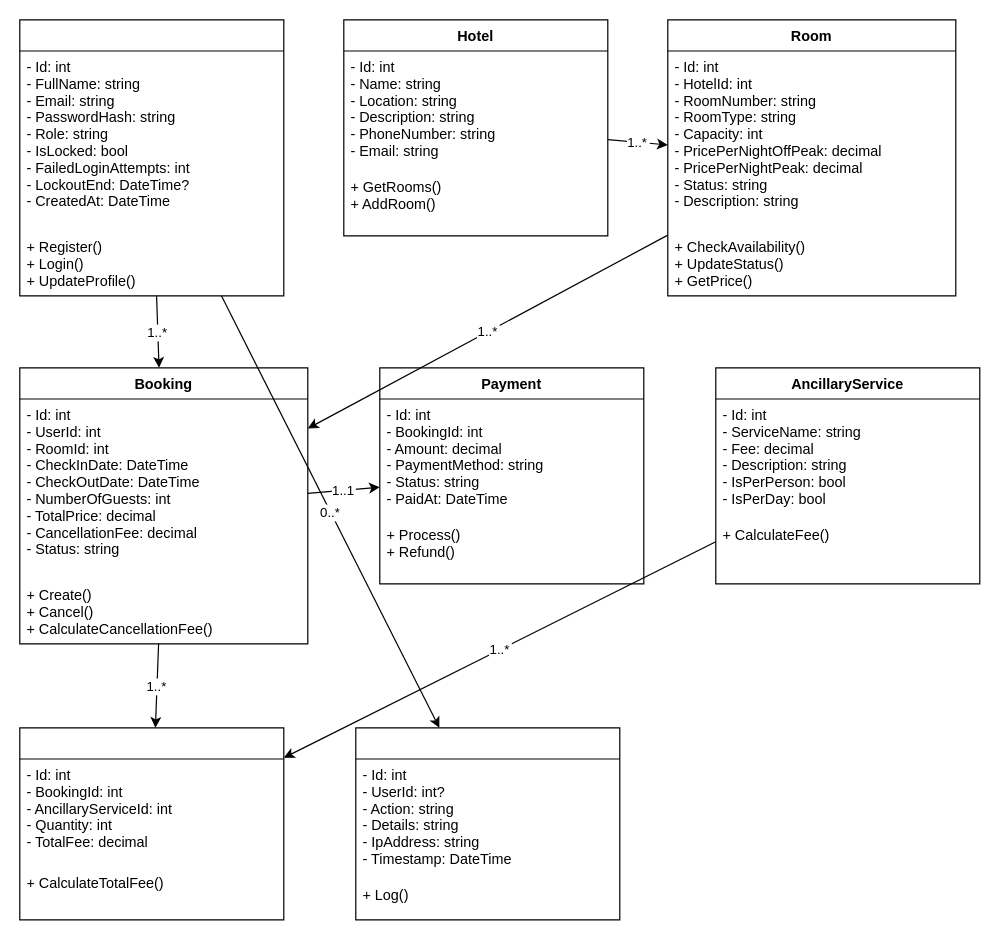
The diagram is 1000 pixels wide and 940 high, and some of its shapes have lost their labels. Here are the shapes that lost their labels. From the top down, the box of each, then its label:
(19, 19, 284, 296): User
(19, 727, 284, 920): BookingService
(355, 727, 620, 920): AuditLog
